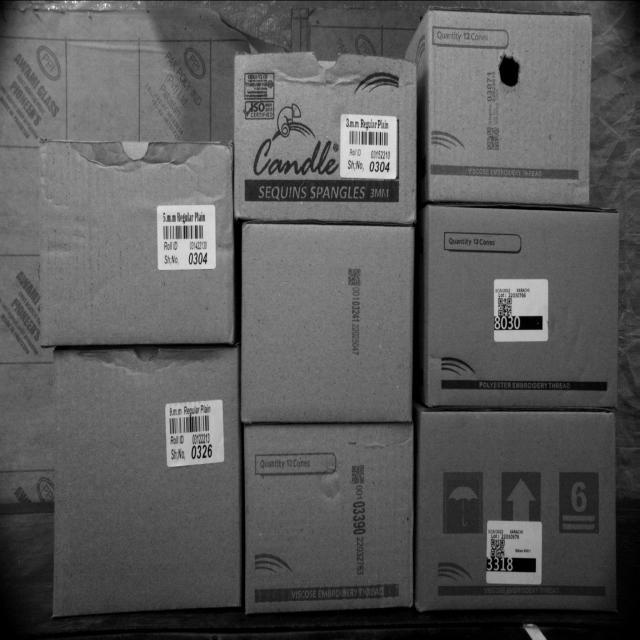box: (50, 346, 240, 617), (417, 409, 620, 612), (422, 210, 624, 410), (42, 142, 235, 342), (241, 222, 417, 426), (242, 421, 419, 610), (425, 14, 596, 203), (235, 55, 419, 223)
